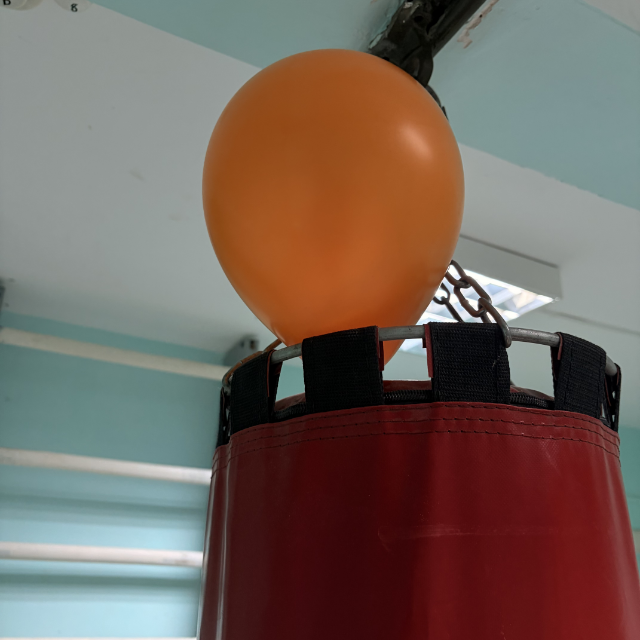balloon: (201, 48, 466, 367)
